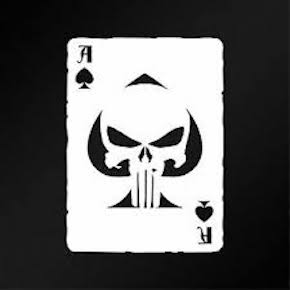AceOfSpades: (63, 32, 227, 257)
